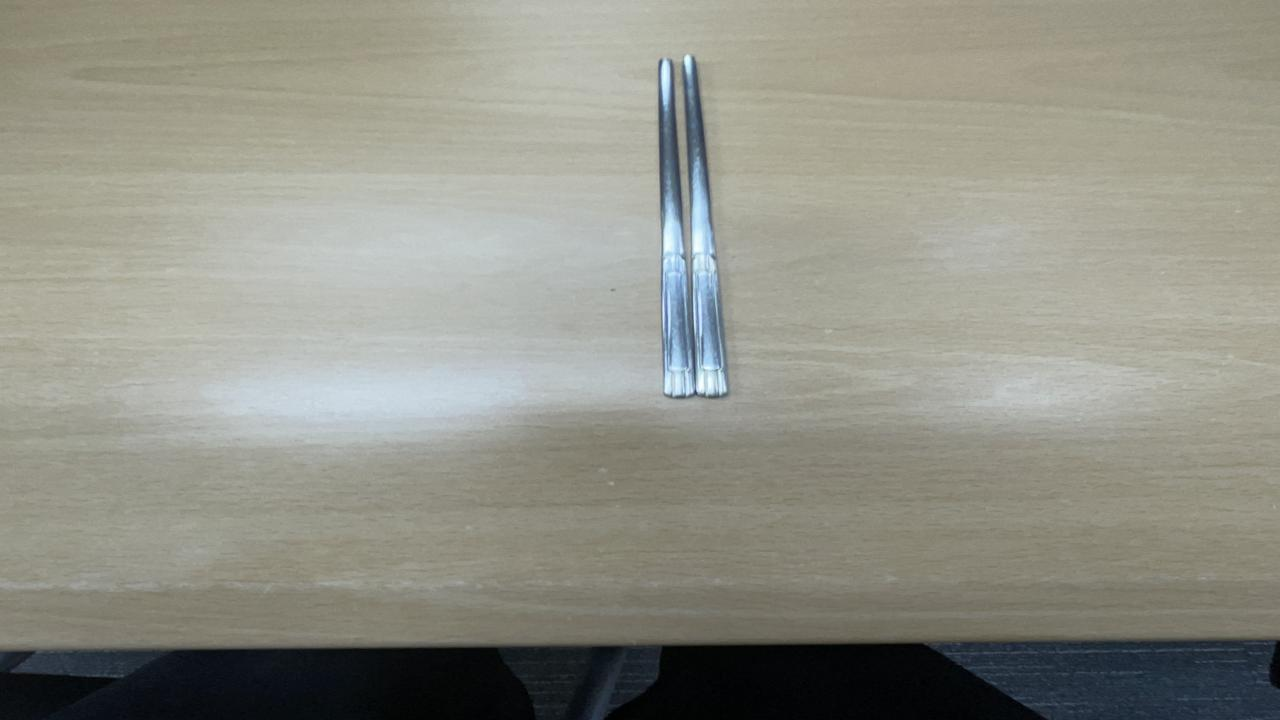chopstick: (644, 53, 736, 401)
